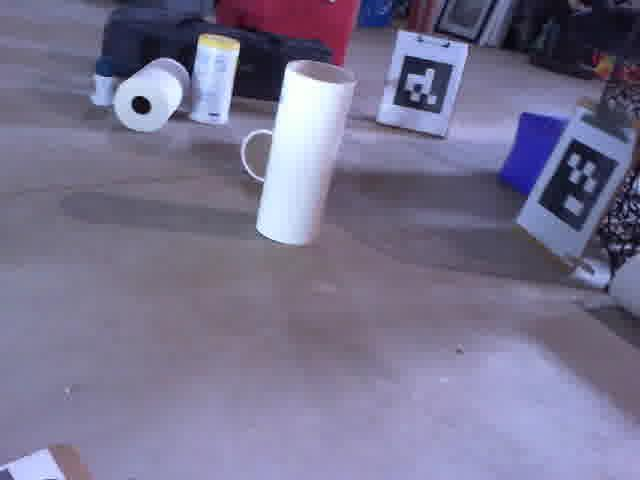coral: (254, 60, 360, 247), (233, 125, 279, 185)
